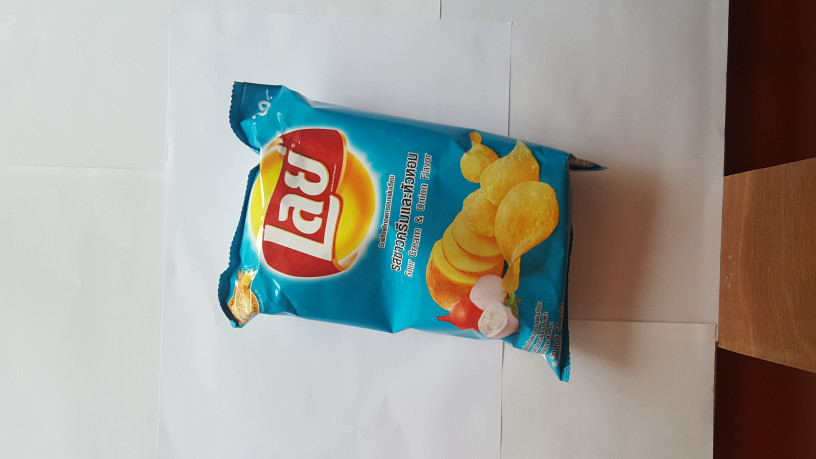lays-onion: (194, 73, 631, 393)
